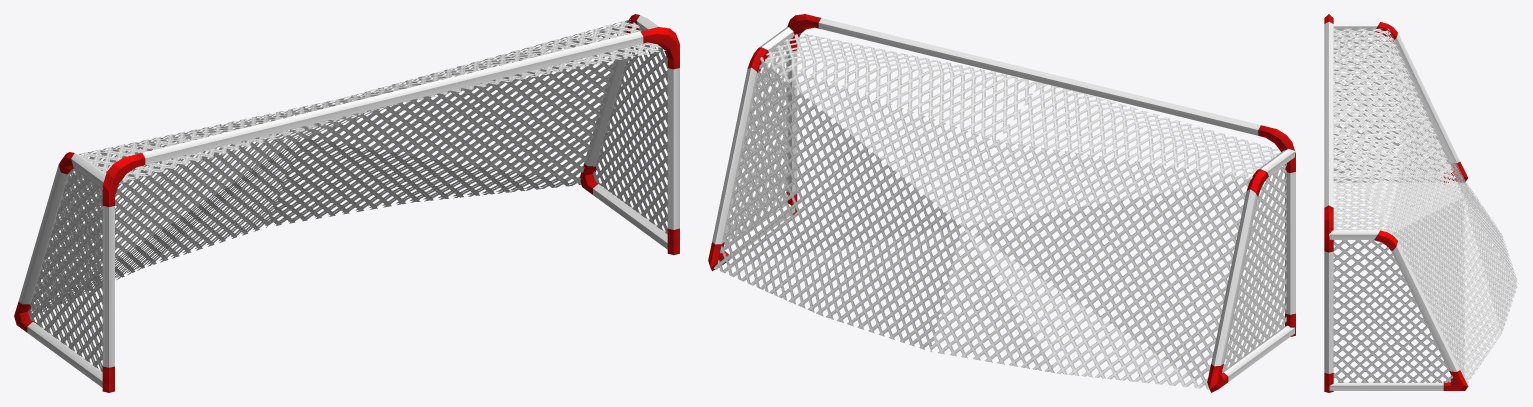
File: qiumen.FBX
3 views of the same model, side by side, from view 1: azimuth 30°, elevation 25°; view 2: azimuth 150°, elevation 25°; view 3: azimuth 270°, elevation 25° (orthographic). The views are drawn at different scales.
Visible parts, largest first — view 1: qiumen; view 2: qiumen; view 3: qiumen.
Part boxes in pixels (x1=…): qiumen: x1=14, y1=14, x2=679, y2=392; qiumen: x1=708, y1=14, x2=1295, y2=392; qiumen: x1=1324, y1=14, x2=1518, y2=392.
Size of the model in its own units: 655 by 252 by 248.
